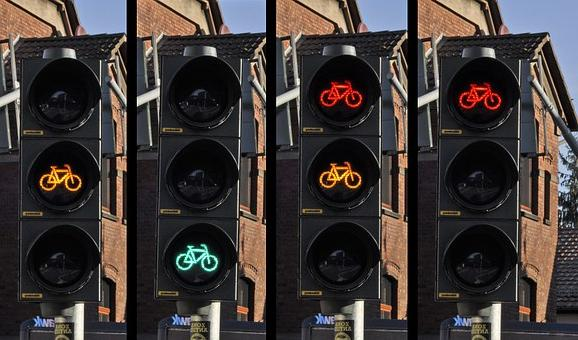trafic: (23, 57, 98, 299), (161, 53, 236, 295), (303, 52, 378, 294), (442, 54, 517, 296)
